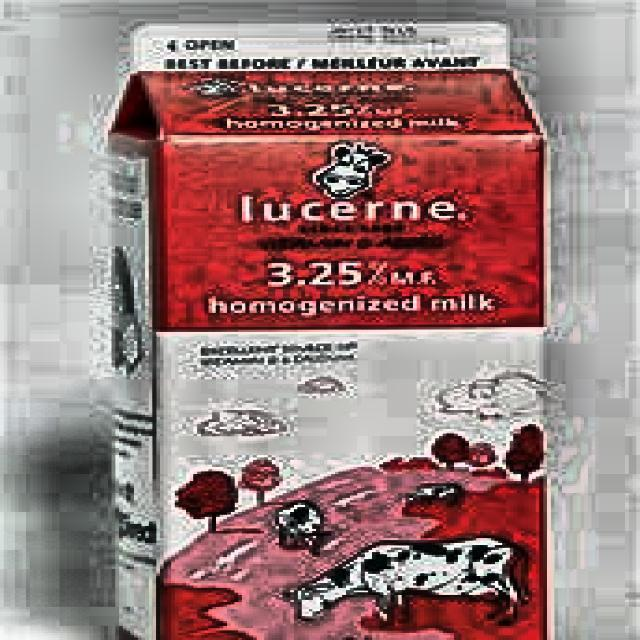cardboard: (105, 33, 554, 638)
